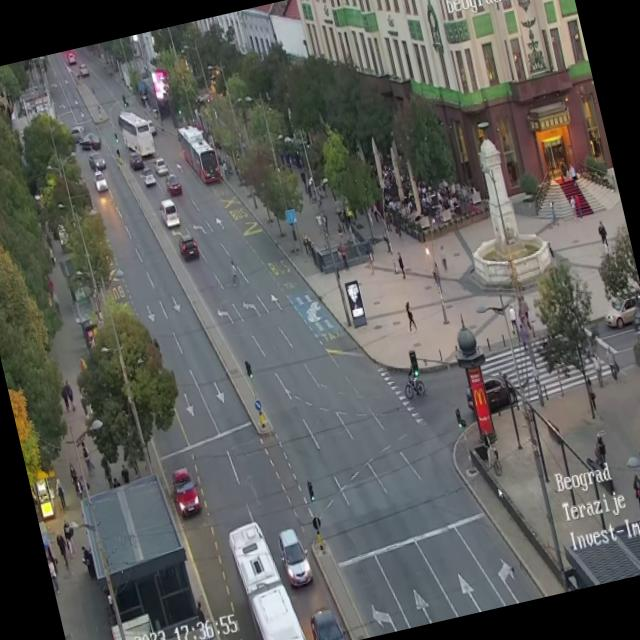bus: (225, 516, 311, 640), (175, 120, 222, 188), (116, 105, 158, 161)
car: (274, 524, 314, 590), (462, 374, 520, 416), (168, 465, 204, 519), (306, 603, 346, 640), (175, 230, 200, 262), (158, 195, 180, 228), (78, 128, 100, 152), (88, 148, 108, 174), (164, 171, 184, 196), (92, 171, 110, 194), (141, 167, 157, 191), (152, 158, 169, 176), (76, 60, 90, 78), (66, 50, 76, 64)
